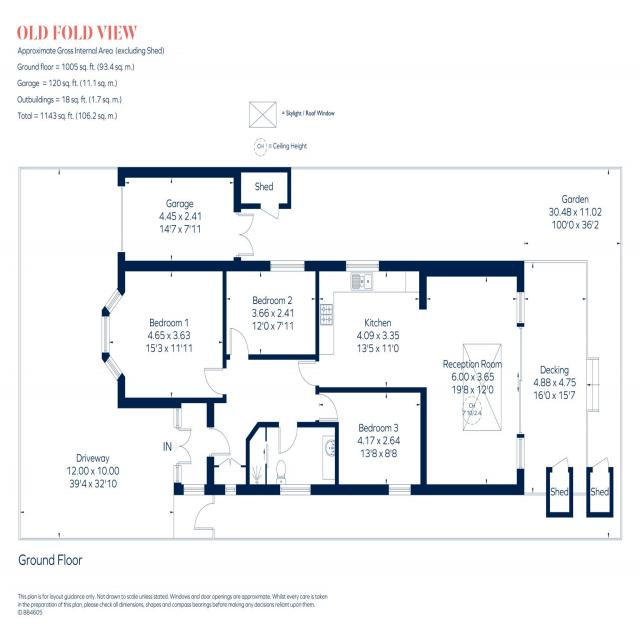DOOR: (314, 392, 340, 422), (229, 326, 250, 362), (202, 367, 227, 397), (207, 427, 232, 456), (278, 421, 299, 455), (296, 360, 320, 387), (193, 502, 215, 531)
ROOM: (296, 260, 525, 496), (101, 260, 227, 409), (314, 385, 428, 496), (222, 260, 320, 360)
WINDOW: (103, 287, 123, 316), (103, 354, 123, 382), (269, 259, 305, 273), (345, 260, 381, 273), (279, 483, 312, 497), (101, 315, 110, 355), (515, 291, 525, 325), (515, 436, 525, 470), (182, 483, 206, 496), (388, 483, 412, 496), (173, 407, 183, 428), (173, 464, 182, 485), (224, 483, 237, 496)
